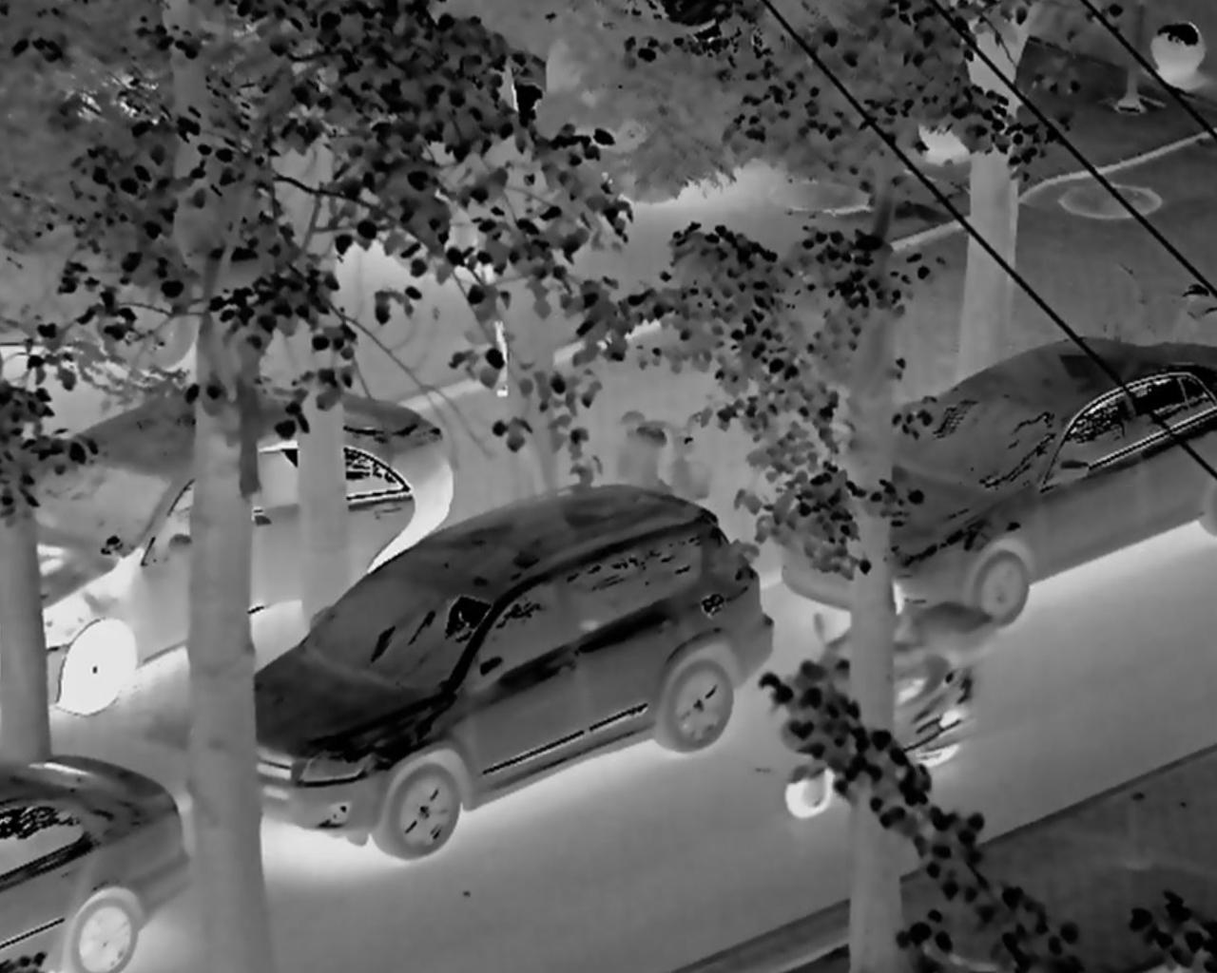person: (819, 561, 974, 797)
